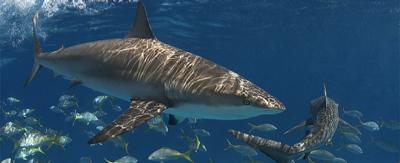Shark -Selachimorpha-: (26, 0, 285, 144), (227, 81, 340, 162)
